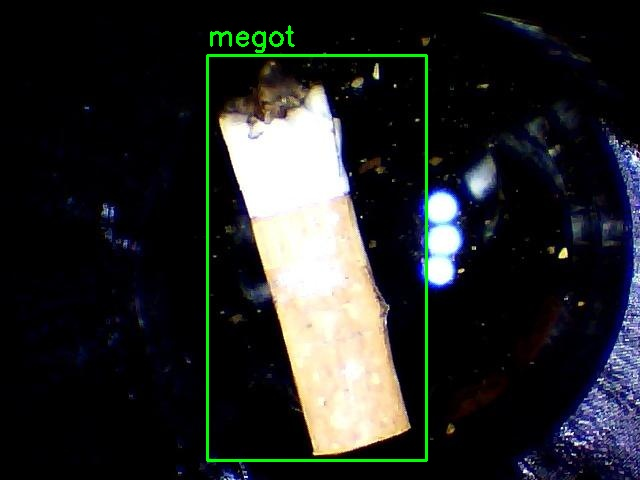megot: (207, 55, 426, 460)
